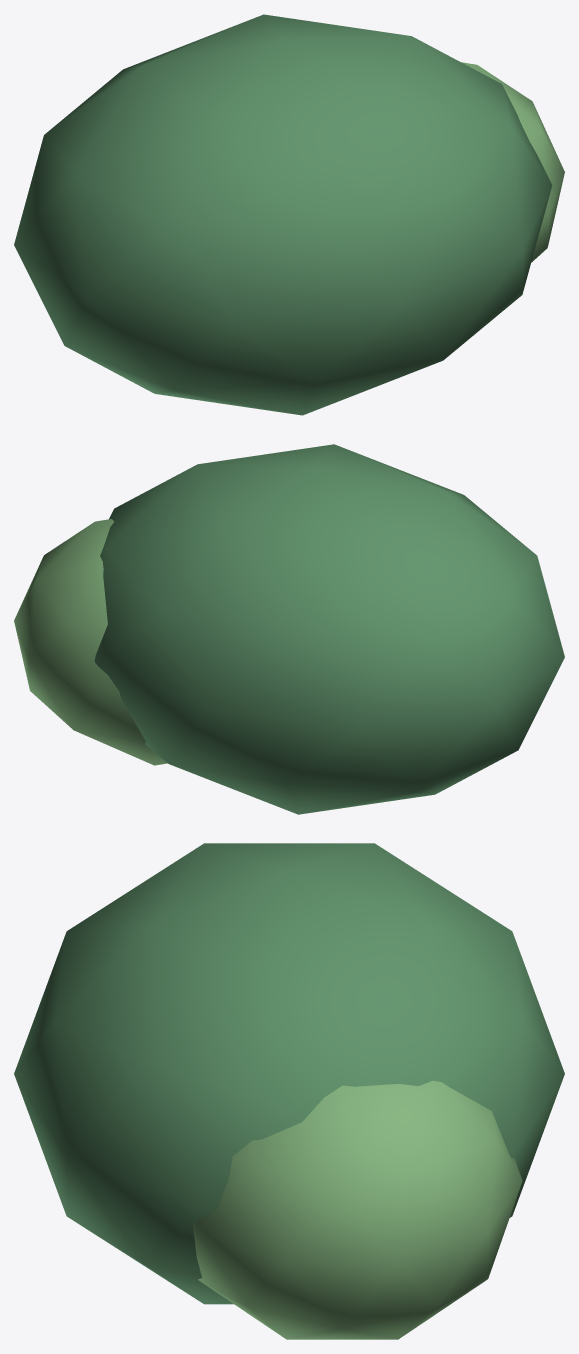
Rendered from berry_bush.glb.
3 views of the same model, one above another, from view 1: azimuth 30°, elevation 25°; view 2: azimuth 150°, elevation 25°; view 3: azimuth 270°, elevation 25° (orthographic). The views are drawn at different scales.
Visible parts, largest first — view 1: BushA, BushB; view 2: BushA, BushB; view 3: BushA, BushB.
Boxes of the visible parts, <box> form: BushA: <box>14,14,552,415</box>; BushB: <box>461,62,564,262</box>; BushA: <box>94,444,564,814</box>; BushB: <box>14,519,167,765</box>; BushA: <box>14,843,564,1304</box>; BushB: <box>193,1080,522,1339</box>.
Bounding box in the file's own units: 1.3 × 0.84 × 1.04.
